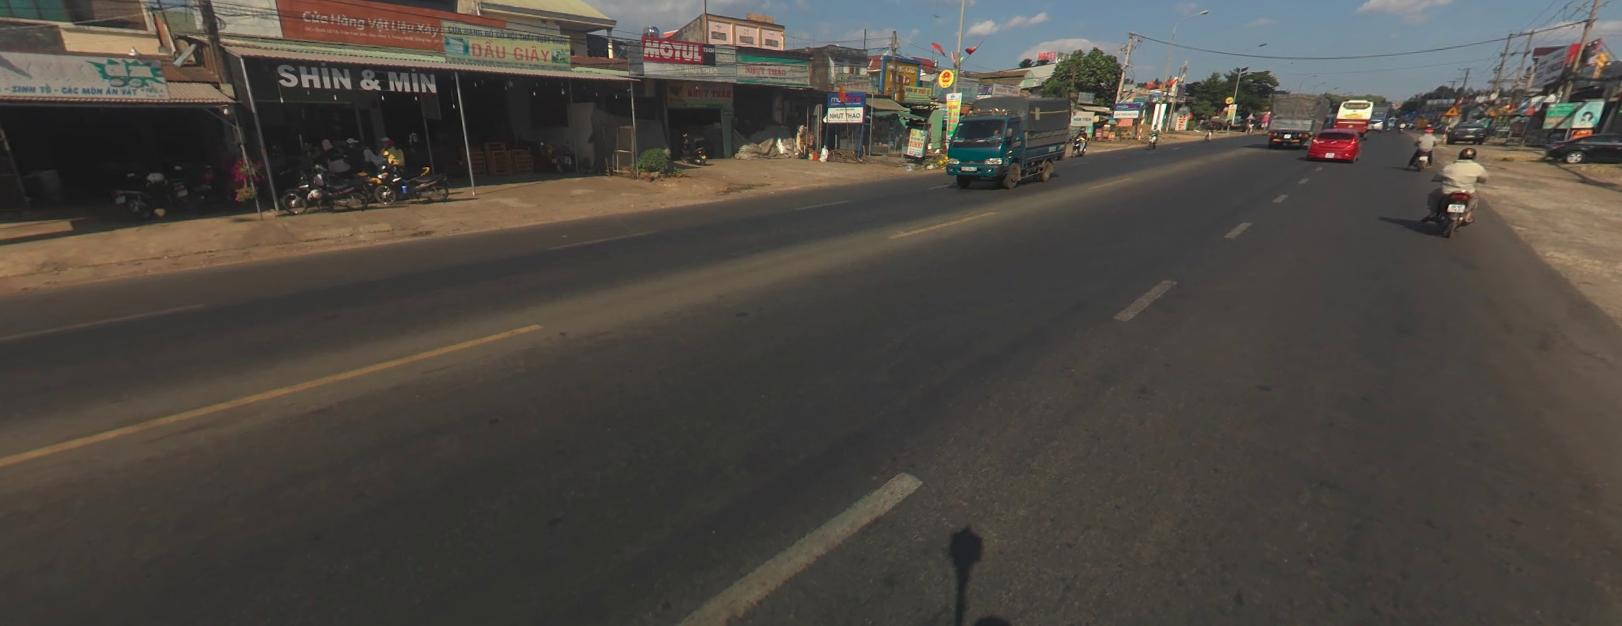Nguy hiem: (1443, 103, 1460, 114), (1444, 105, 1456, 115)
